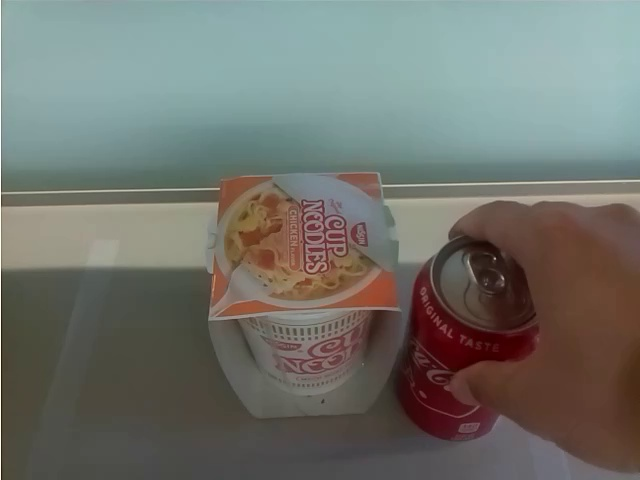cocacola: (400, 240, 538, 443)
hand: (443, 198, 640, 472)
noodles: (204, 169, 408, 420)
